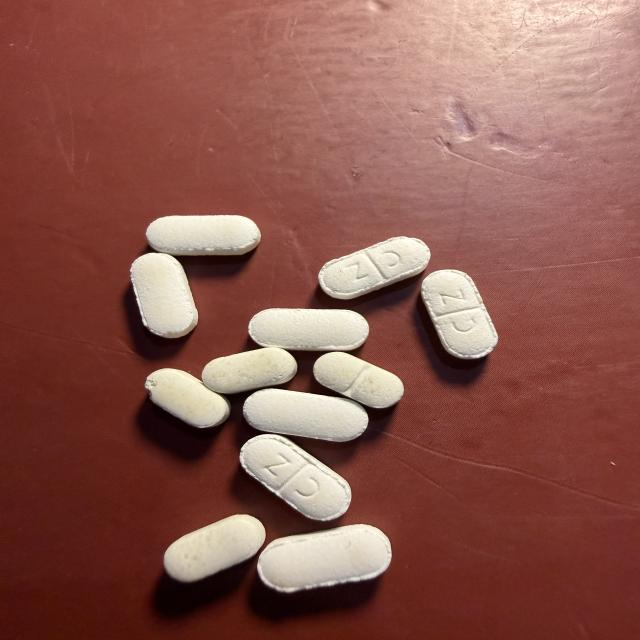pill: (240, 434, 351, 520), (258, 525, 391, 592), (319, 237, 430, 299), (164, 515, 265, 582), (422, 270, 497, 358), (243, 389, 368, 441), (131, 254, 197, 338), (314, 352, 403, 408), (145, 369, 230, 427), (249, 309, 369, 350), (147, 216, 260, 255), (202, 347, 297, 393)
